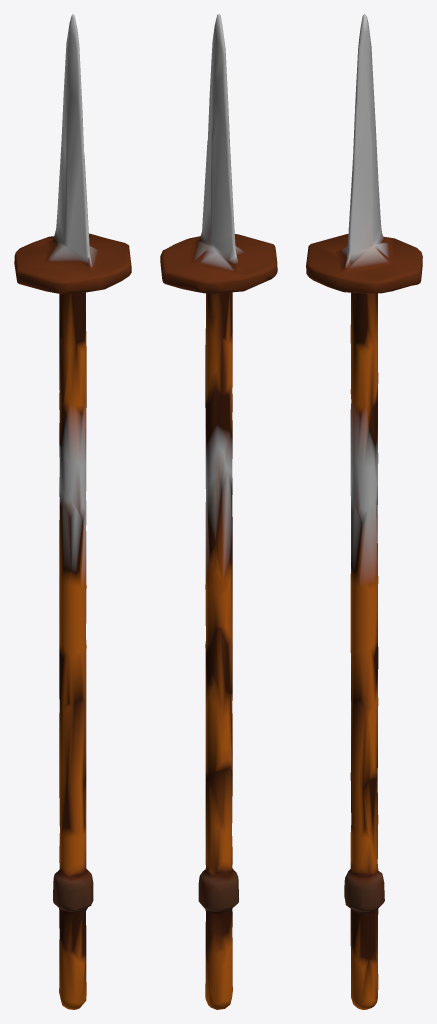
Rendered from gen3d-jousting-lance-lod1.glb.
The picture shows the model from 3 angles, left to right: view 1: azimuth 30°, elevation 25°; view 2: azimuth 210°, elevation 25°; view 3: azimuth 330°, elevation 25°; orthographic projection.
Parts seen in each view (by area): view 1: part_0; view 2: part_0; view 3: part_0.
Part boxes in pixels (left/top/right/bottom): part_0: left=14, top=14, right=131, bottom=1009; part_0: left=160, top=14, right=277, bottom=1009; part_0: left=306, top=14, right=422, bottom=1009.
Bounding box in the file's own units: 0.1178 × 1 × 0.1011.
